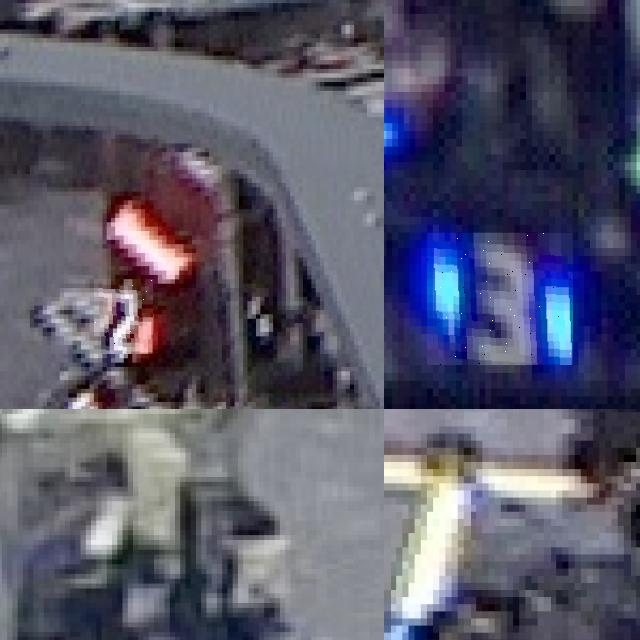B3: (427, 233, 573, 365)
R2: (94, 279, 153, 354)
